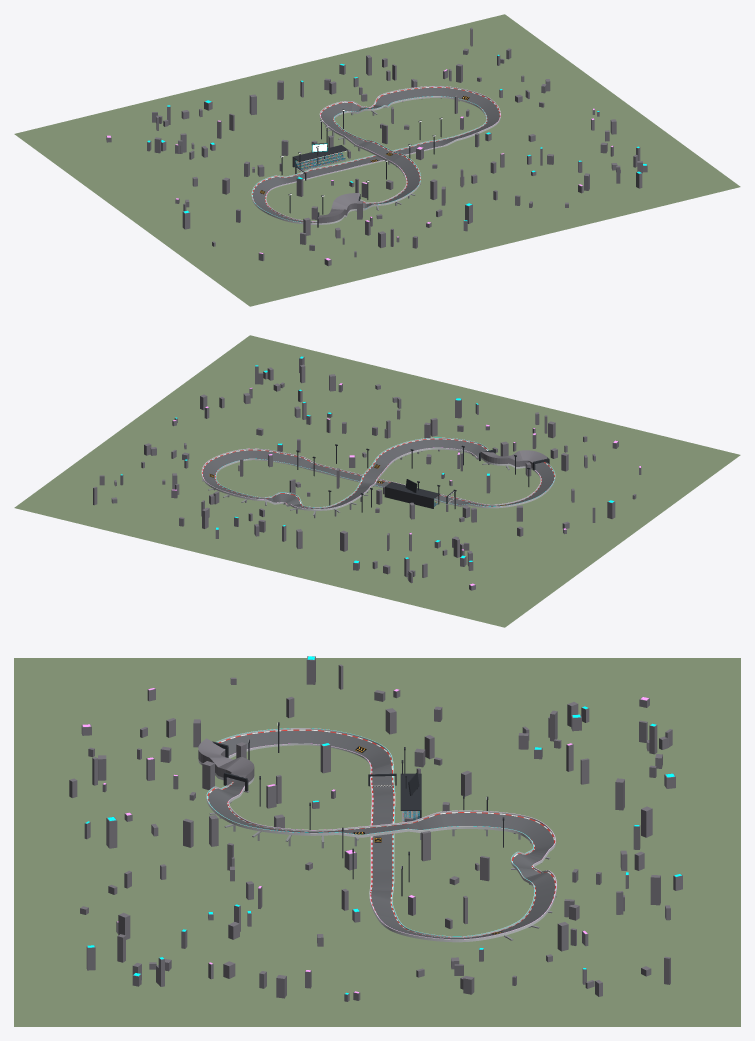
File: race_circuit.glb
The picture shows the model from 3 angles, top to bottom: view 1: azimuth 30°, elevation 25°; view 2: azimuth 150°, elevation 25°; view 3: azimuth 270°, elevation 25°; orthographic projection. The views are drawn at different scales.
Visible parts, largest first — view 1: Ground, Scenery, Road, Barriers, Kerbs, Tunnel; view 2: Ground, Scenery, Road, Barriers, Tunnel, Kerbs; view 3: Ground, Scenery, Road, Barriers, Kerbs, Tunnel, BarrierLights, SceneryLamps.
Part boxes in pixels (x1,y1,x2,y2): Ground: (14, 14, 740, 306); Scenery: (106, 27, 647, 266); Road: (253, 87, 499, 222); Barriers: (251, 86, 500, 224); Kerbs: (252, 87, 500, 222); Tunnel: (317, 193, 360, 227); Ground: (14, 335, 740, 627); Scenery: (93, 356, 641, 590); Road: (203, 439, 554, 508); Barriers: (201, 437, 555, 510); Tunnel: (479, 449, 549, 469); Kerbs: (202, 438, 554, 508); Ground: (14, 658, 740, 1026); Scenery: (69, 656, 682, 1001); Road: (208, 730, 554, 939); Barriers: (198, 728, 556, 942); Kerbs: (207, 729, 555, 937); Tunnel: (198, 738, 254, 791); BarrierLights: (207, 728, 556, 939); SceneryLamps: (82, 656, 681, 994).
Bounding box in the file's own units: 625 × 25 × 521.
28 materials, 4 textured.
